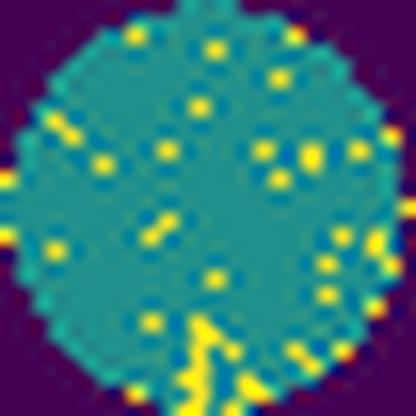Scratch: (168, 307, 248, 416)
